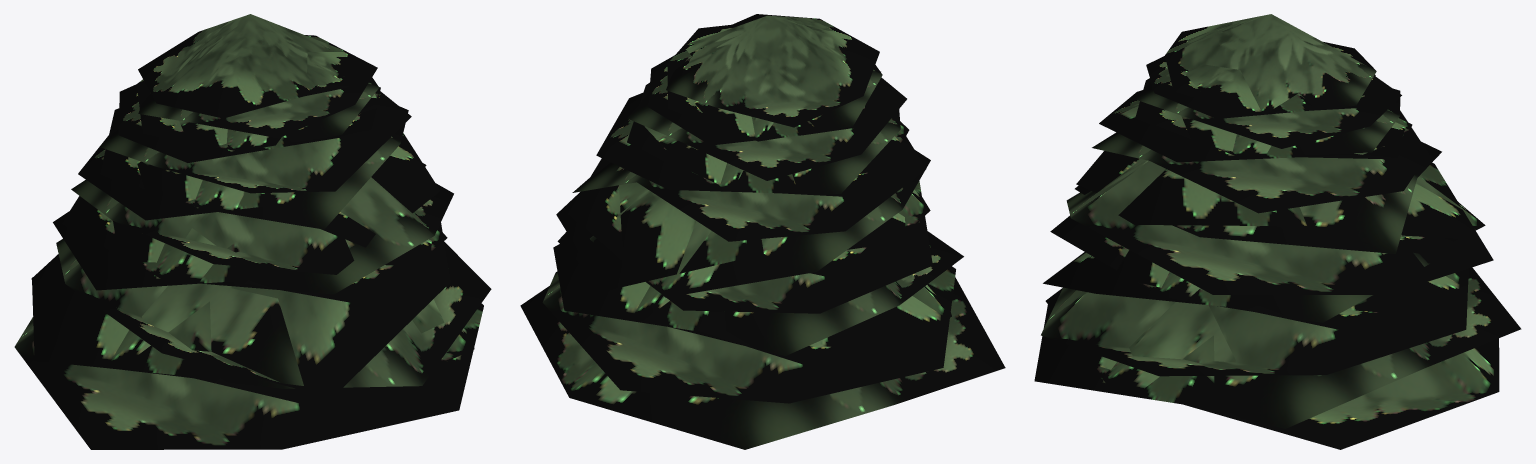
Rendered from GGJ Bush.glb.
The picture shows the model from 3 angles, left to right: view 1: azimuth 30°, elevation 25°; view 2: azimuth 150°, elevation 25°; view 3: azimuth 270°, elevation 25°; orthographic projection. The views are drawn at different scales.
Parts seen in each view (by area): view 1: Bush; view 2: Bush; view 3: Bush.
Part boxes in pixels (x1,y1,x2,y2): Bush: (14, 14, 491, 449); Bush: (520, 14, 1005, 449); Bush: (1034, 14, 1521, 449).
Bounding box in the file's own units: 7.66 × 6.02 × 7.65.
1 material, 1 textured.
